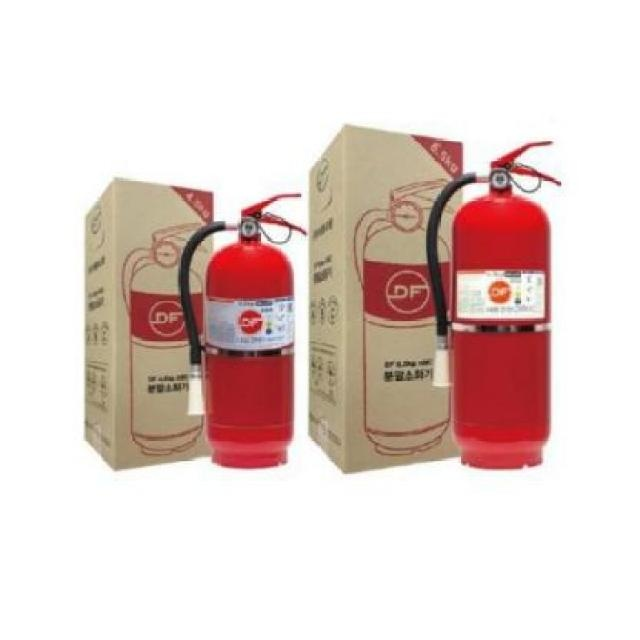fire extinguisher: (425, 139, 563, 470), (177, 192, 308, 471)
